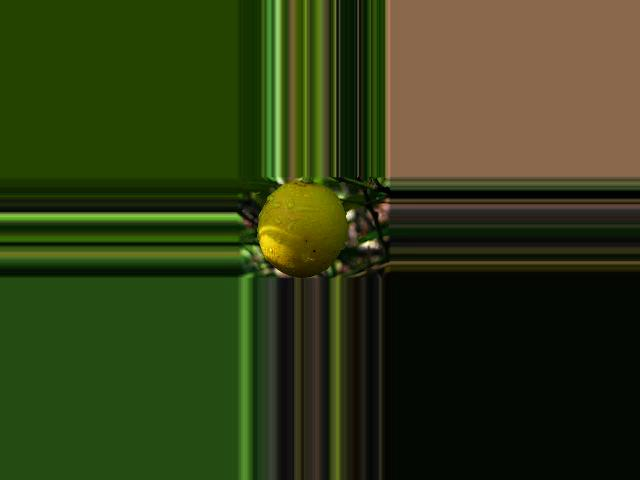lemon: (251, 183, 353, 278)
